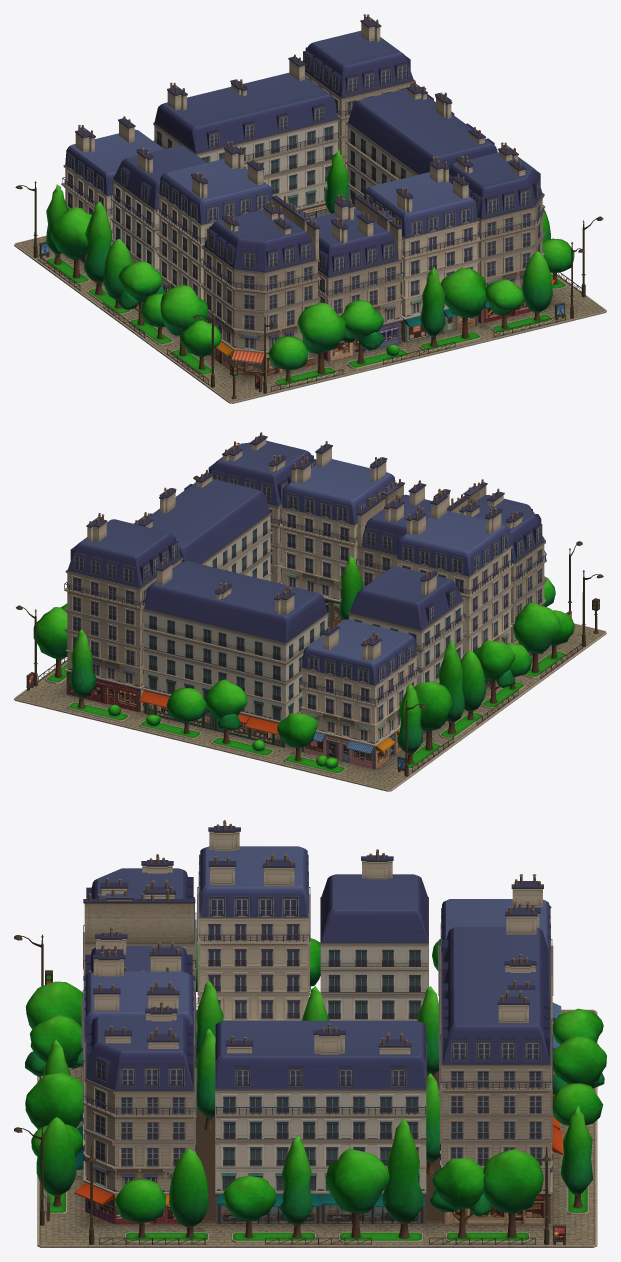
File: map_MK2.glb
The picture shows the model from 3 angles, top to bottom: view 1: azimuth 30°, elevation 25°; view 2: azimuth 150°, elevation 25°; view 3: azimuth 270°, elevation 25°; orthographic projection. The views are drawn at different scales.
Visible parts, largest first — view 1: Box105, tree, Object113, Object150; view 2: Box105, tree, Object113, Object150; view 3: Box105, tree, Object113, Object150.
Part boxes in pixels (left/top/right/bottom): Box105: left=61, top=14, right=554, bottom=363; tree: left=46, top=149, right=574, bottom=381; Object113: left=14, top=86, right=606, bottom=403; Object150: left=79, top=203, right=532, bottom=376; Box105: left=64, top=432, right=546, bottom=754; tree: left=33, top=556, right=574, bottom=768; Object113: left=14, top=475, right=606, bottom=791; Object150: left=66, top=598, right=532, bottom=769; Box105: left=74, top=820, right=562, bottom=1206; tree: left=25, top=929, right=606, bottom=1238; Object113: left=14, top=905, right=597, bottom=1247; Object150: left=85, top=1074, right=550, bottom=1224.
Bounding box in the file's own units: 51.51 × 20.94 × 50.36.
3 materials, 3 textured.
